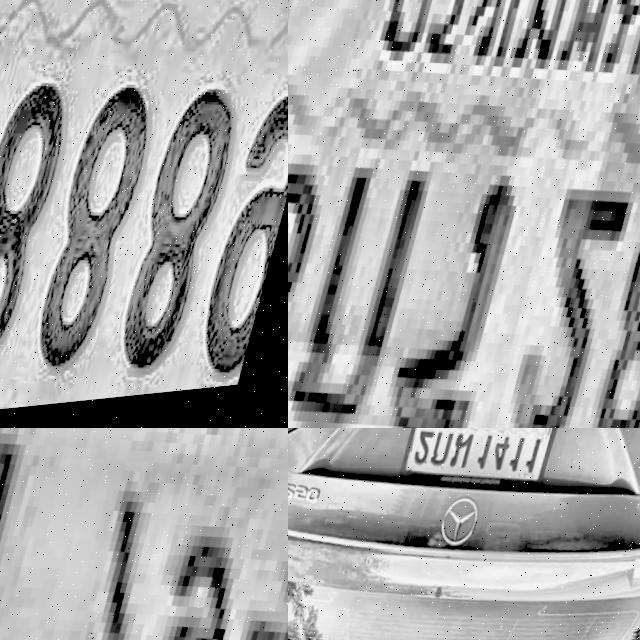license-plate: (288, 0, 640, 428), (0, 0, 288, 428), (0, 428, 288, 640), (397, 428, 580, 518)
